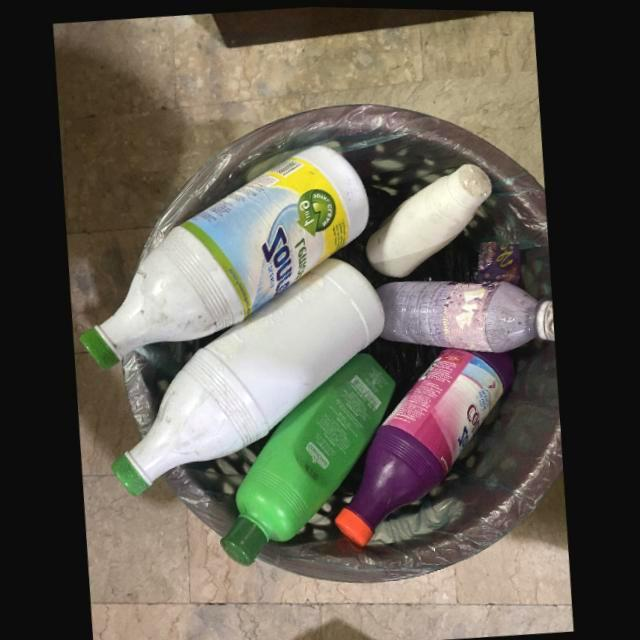plastic_bottle: (112, 256, 387, 495), (80, 144, 371, 369), (222, 351, 399, 566), (336, 346, 516, 545), (366, 161, 493, 277), (376, 278, 556, 351)
